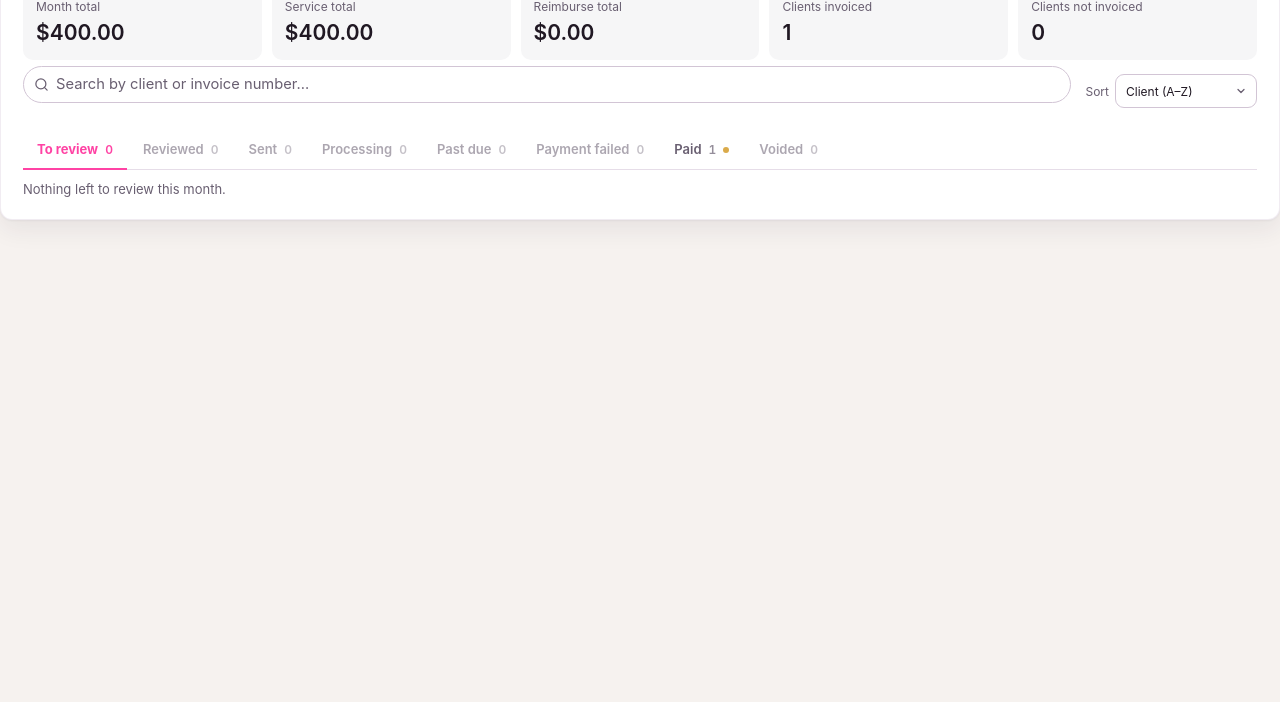
Apply as credit on a second payment › sits beside Mark as handled on a settled duplicate, enabled
Click the tab "Paid 1".
click(702, 151)  # box 660,131 -> 743,170
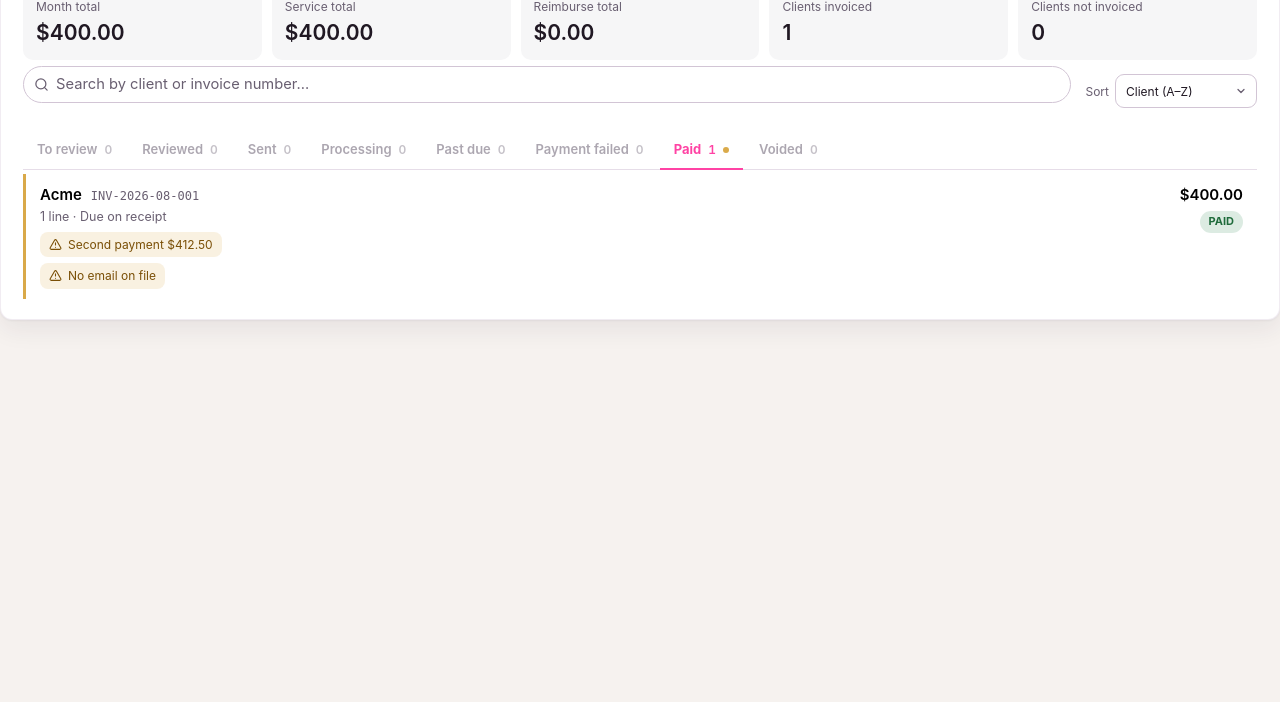
Click the text "INV-2026-08-001".
click(145, 197)  # box 91,188 -> 199,205
(page scrolled)
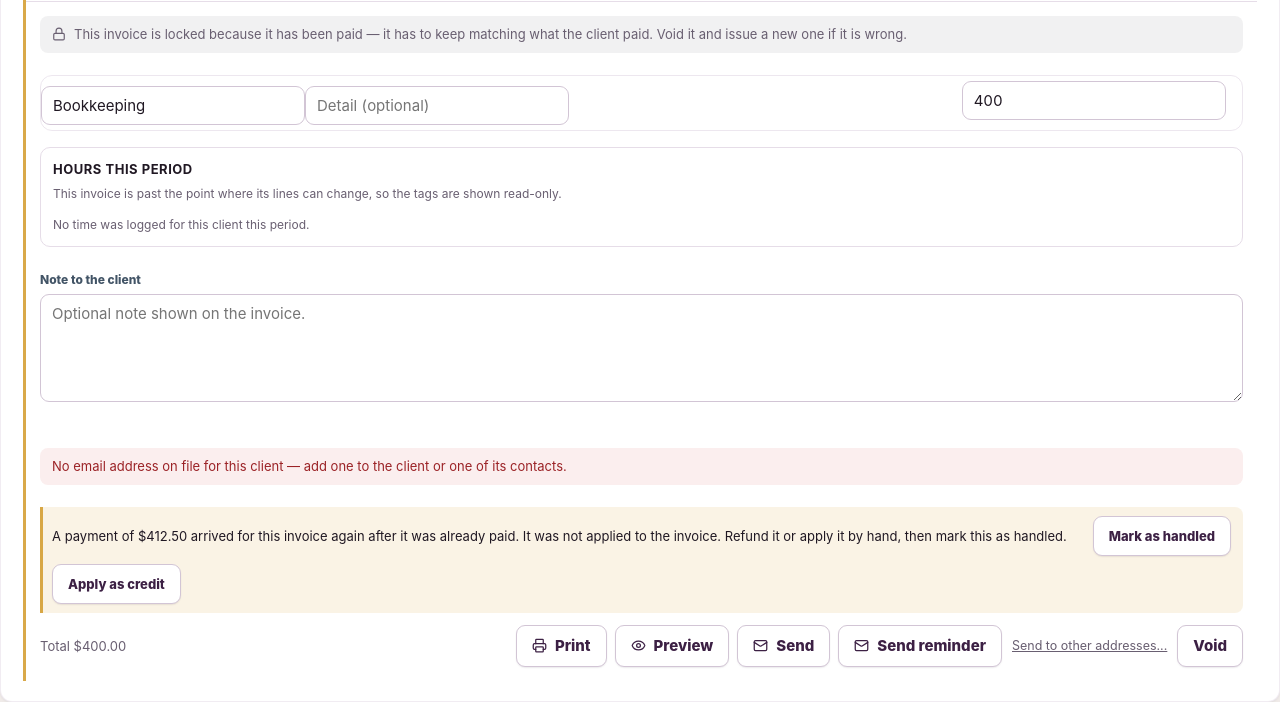
Expected: the button "Mark as handled" is shown, 1093,516 -> 1231,556
Expected: the button "Apply as credit" is enabled, 52,564 -> 181,604
